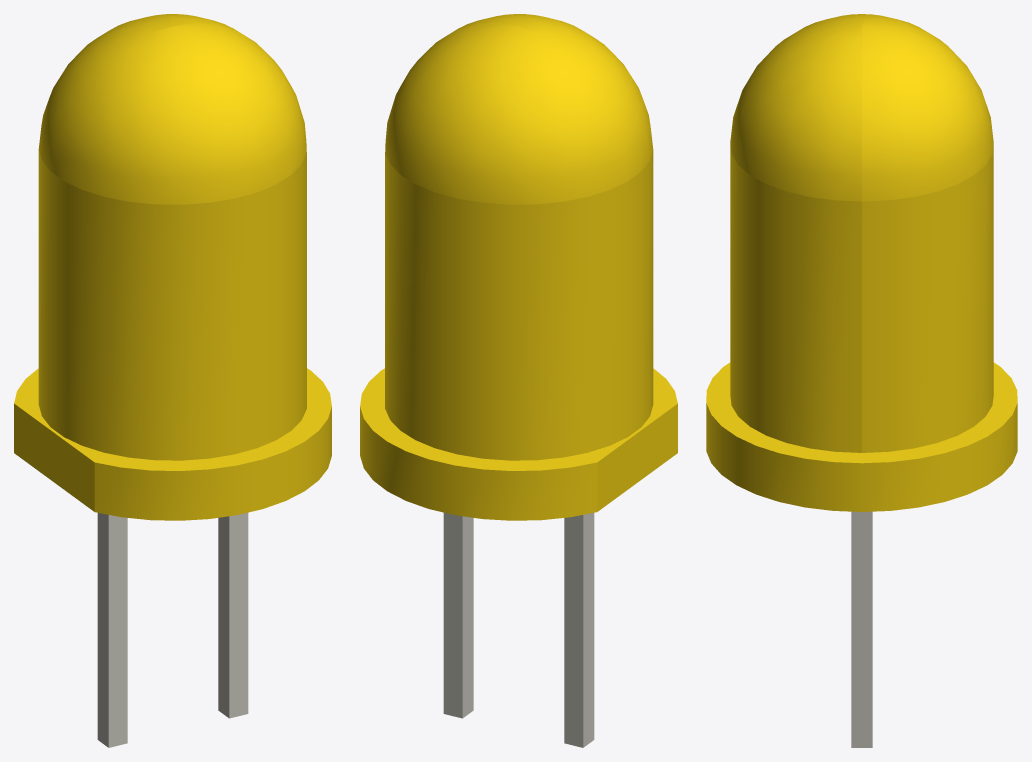
Rendered from kc-led_d5.0mm_yellow.glb.
3 renders of one model, left to right at view 1: azimuth 30°, elevation 25°; view 2: azimuth 150°, elevation 25°; view 3: azimuth 270°, elevation 25°, orthographic.
Parts seen in each view (by area): view 1: 0.9166666666666666_0.6666666666666666_0_0, 0.6666666666666666_0.6666666666666666_0.5833333333333334_0.8; view 2: 0.9166666666666666_0.6666666666666666_0_0, 0.6666666666666666_0.6666666666666666_0.5833333333333334_0.8; view 3: 0.9166666666666666_0.6666666666666666_0_0, 0.6666666666666666_0.6666666666666666_0.5833333333333334_0.8.
Boxes of the visible parts, box(x1,y1,x2,y2) form: 0.9166666666666666_0.6666666666666666_0_0: box(14, 14, 331, 520); 0.6666666666666666_0.6666666666666666_0.5833333333333334_0.8: box(97, 512, 248, 747); 0.9166666666666666_0.6666666666666666_0_0: box(360, 14, 677, 520); 0.6666666666666666_0.6666666666666666_0.5833333333333334_0.8: box(443, 512, 594, 747); 0.9166666666666666_0.6666666666666666_0_0: box(706, 14, 1017, 511); 0.6666666666666666_0.6666666666666666_0.5833333333333334_0.8: box(851, 511, 872, 747).
Size of the model in its own units: 0.54 by 1.41 by 0.5782.
